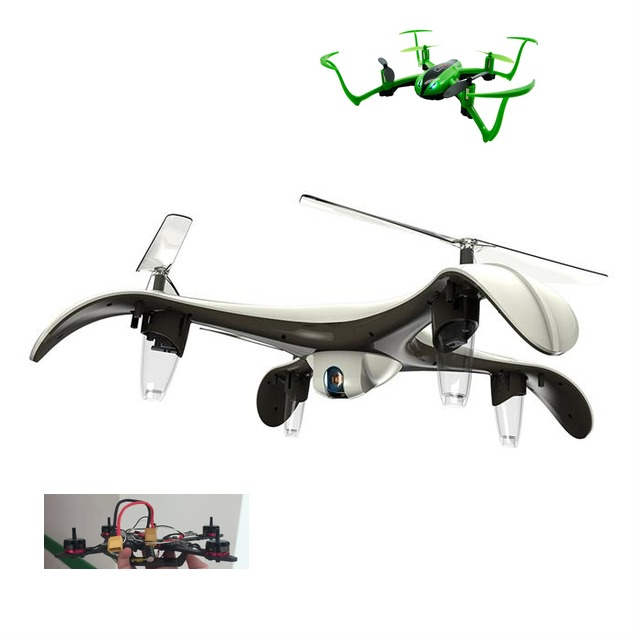drone: (27, 177, 606, 447), (307, 21, 551, 150), (44, 494, 249, 569)
